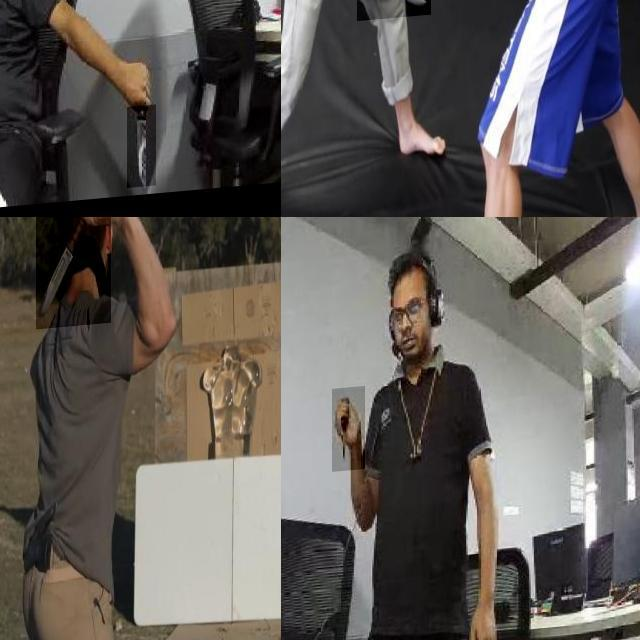-: (36, 217, 111, 333), (332, 392, 365, 477), (127, 110, 156, 194), (357, 0, 431, 31)
